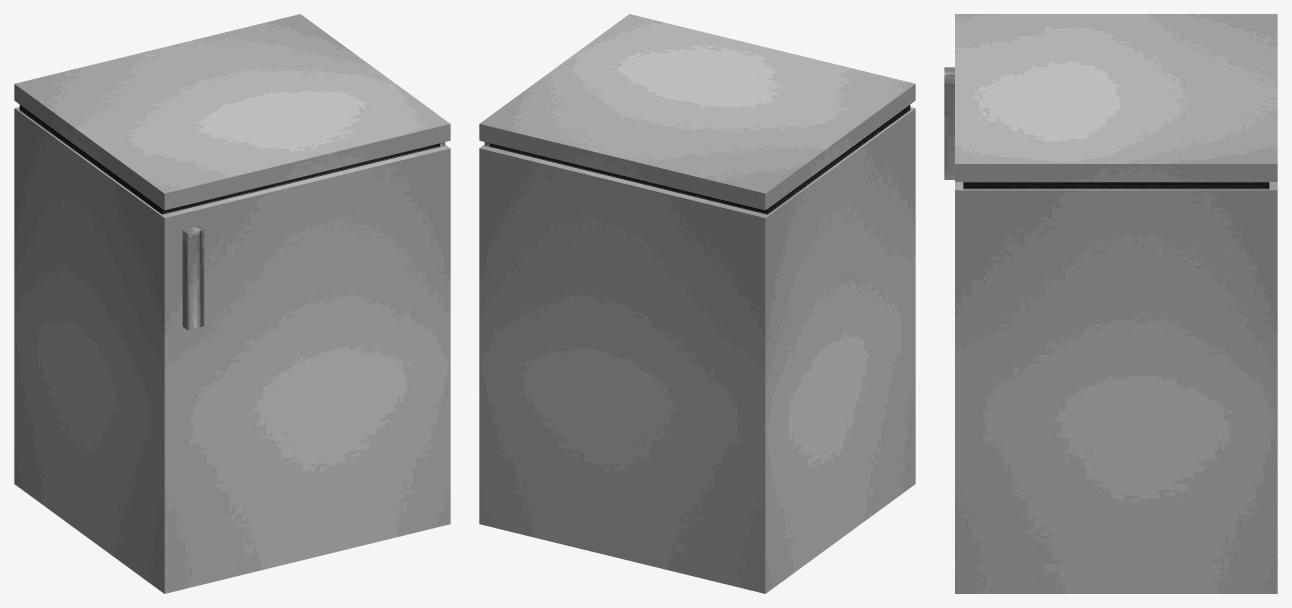
Rendered from fridge.glb.
3 views of the same model, side by side, from view 1: azimuth 30°, elevation 25°; view 2: azimuth 150°, elevation 25°; view 3: azimuth 270°, elevation 25° (orthographic). The views are drawn at different scales.
Visible parts, largest first — view 1: Fridge; view 2: Fridge; view 3: Fridge.
Boxes of the visible parts, box(x1,y1,x2,y2) form: Fridge: box(14, 14, 450, 593); Fridge: box(479, 14, 915, 593); Fridge: box(944, 14, 1277, 593).
Bounding box in the file's own units: 0.858 × 1.15 × 0.8053.
Materials: 1 (1 with a texture image).
